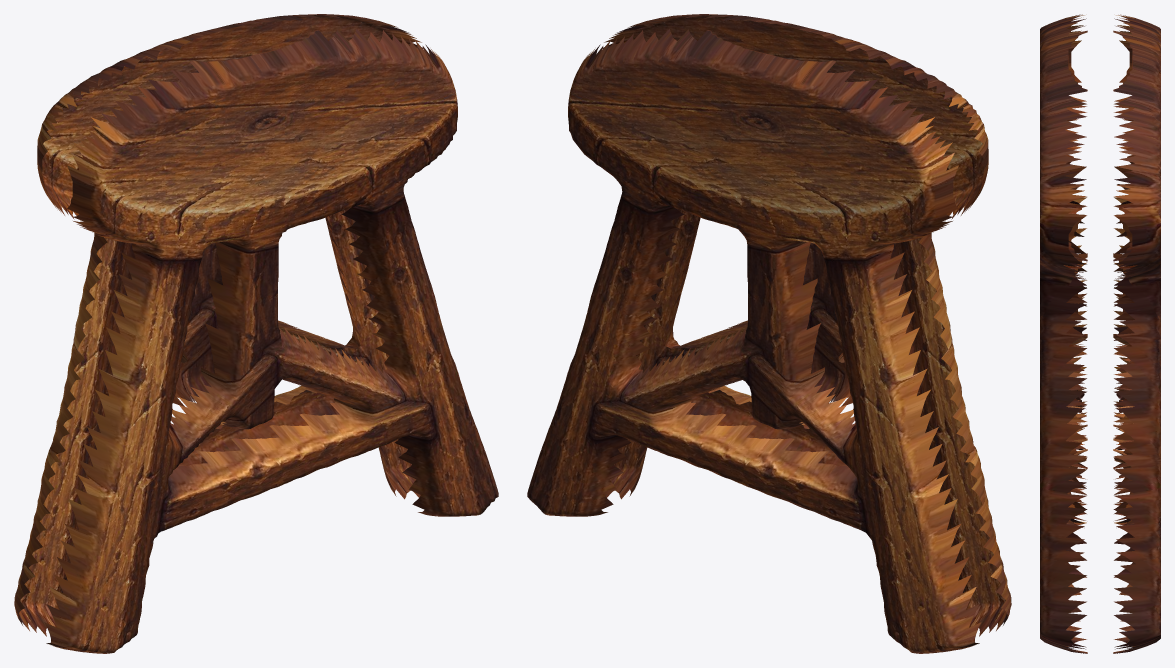
Rendered from v4-taproom-scatter-stool.glb.
3 views of the same model, side by side, from view 1: azimuth 30°, elevation 25°; view 2: azimuth 150°, elevation 25°; view 3: azimuth 270°, elevation 25° (orthographic). The views are drawn at different scales.
Parts seen in each view (by area): view 1: v4-taproom-scatter-stool; view 2: v4-taproom-scatter-stool; view 3: v4-taproom-scatter-stool.
Boxes of the visible parts, x1,y1,x2,y2 form: v4-taproom-scatter-stool: [14, 14, 498, 653]; v4-taproom-scatter-stool: [527, 14, 1011, 653]; v4-taproom-scatter-stool: [1040, 14, 1160, 653].
Bounding box in the file's own units: 0.4077 × 0.4931 × 0.0995.
1 material, 1 textured.
